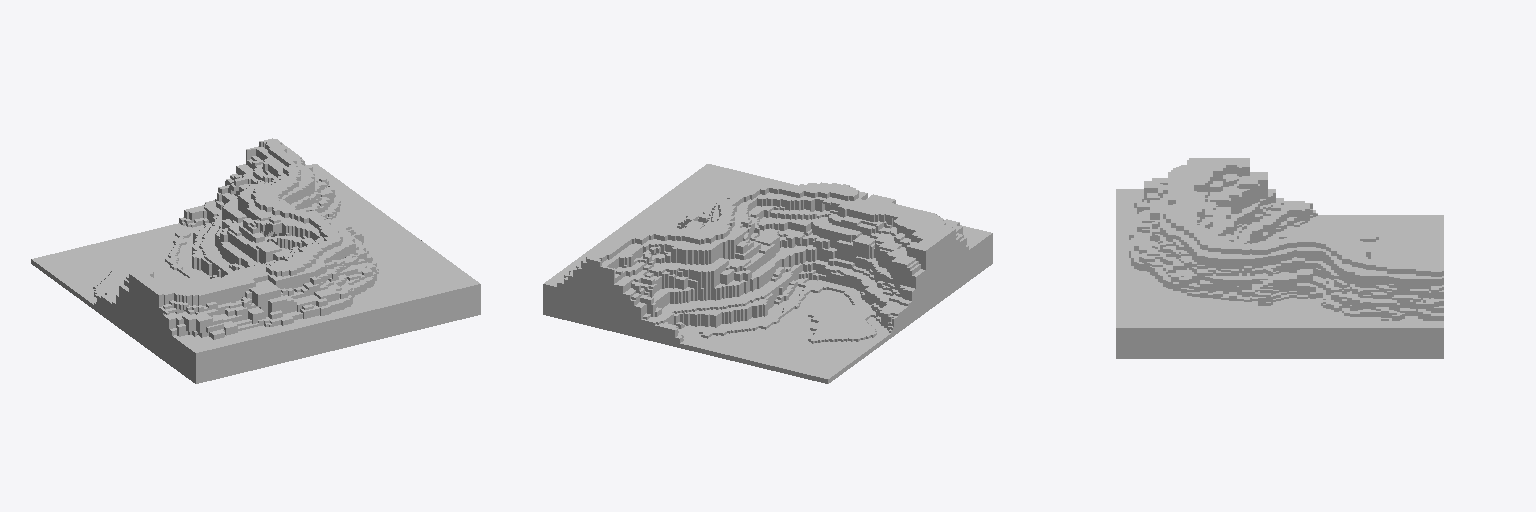
The model's file is Map (34).obj.
3 views of the same model, side by side, from view 1: azimuth 30°, elevation 25°; view 2: azimuth 150°, elevation 25°; view 3: azimuth 270°, elevation 25° (orthographic).
Parts seen in each view (by area): view 1: ALL MAP!!!!!!!!!!!-31; view 2: ALL MAP!!!!!!!!!!!-31; view 3: ALL MAP!!!!!!!!!!!-31.
Part boxes in pixels (left/top/right/bottom): ALL MAP!!!!!!!!!!!-31: left=31, top=138, right=480, bottom=383; ALL MAP!!!!!!!!!!!-31: left=543, top=164, right=992, bottom=383; ALL MAP!!!!!!!!!!!-31: left=1116, top=158, right=1443, bottom=358.
Bounding box in the file's own units: 125 × 28 × 125.